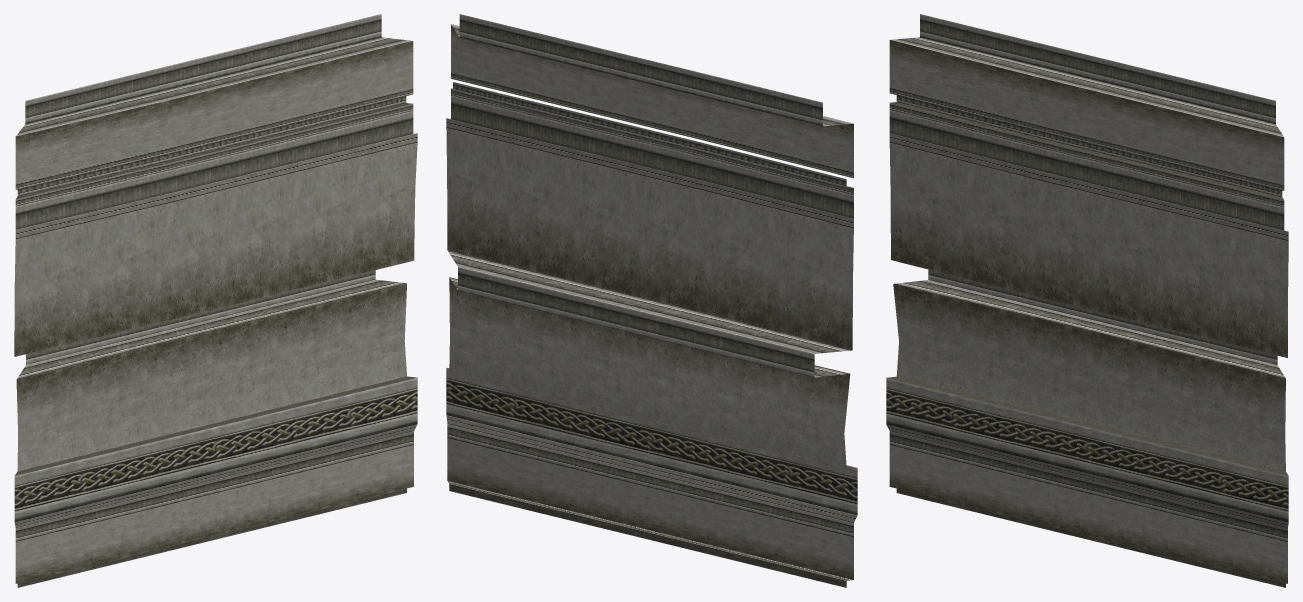
The model's file is DWARF_PALACE_MAINHALL_WALL02B02.fbx.
The picture shows the model from 3 angles, left to right: view 1: azimuth 30°, elevation 25°; view 2: azimuth 150°, elevation 25°; view 3: azimuth 330°, elevation 25°; orthographic projection. The views are drawn at different scales.
Visible parts, largest first — view 1: DWARF_PALACE_MAINHALL_WALL02B02; view 2: DWARF_PALACE_MAINHALL_WALL02B02; view 3: DWARF_PALACE_MAINHALL_WALL02B02.
Part boxes in pixels (<box>): DWARF_PALACE_MAINHALL_WALL02B02: <box>14,14,417,587</box>; DWARF_PALACE_MAINHALL_WALL02B02: <box>446,14,857,587</box>; DWARF_PALACE_MAINHALL_WALL02B02: <box>886,14,1288,587</box>.
Size of the model in its own units: 181000 by 205000 by 12001.
Materials: 8 (8 with a texture image).
